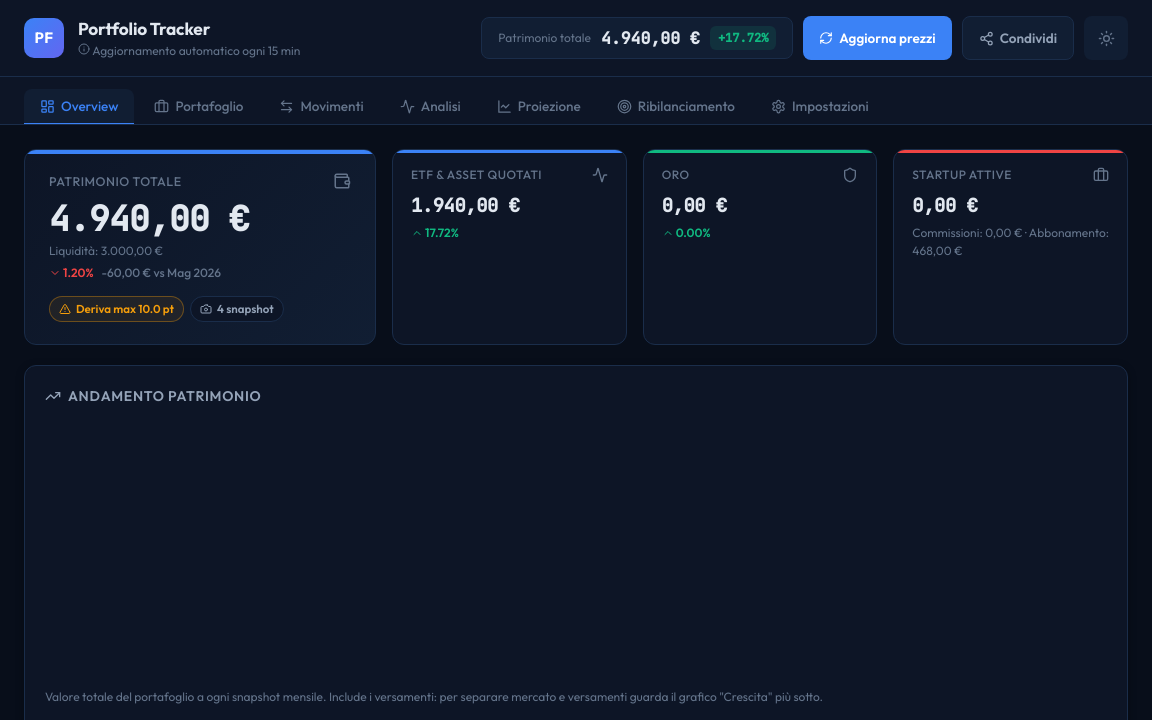
Test case: la concentrazione nomina la posizione che pesa di più
The image size is (1152, 720).
Step 1. Click the button "Analisi" → (430, 107), box [384,89,477,125]
(page scrolled)
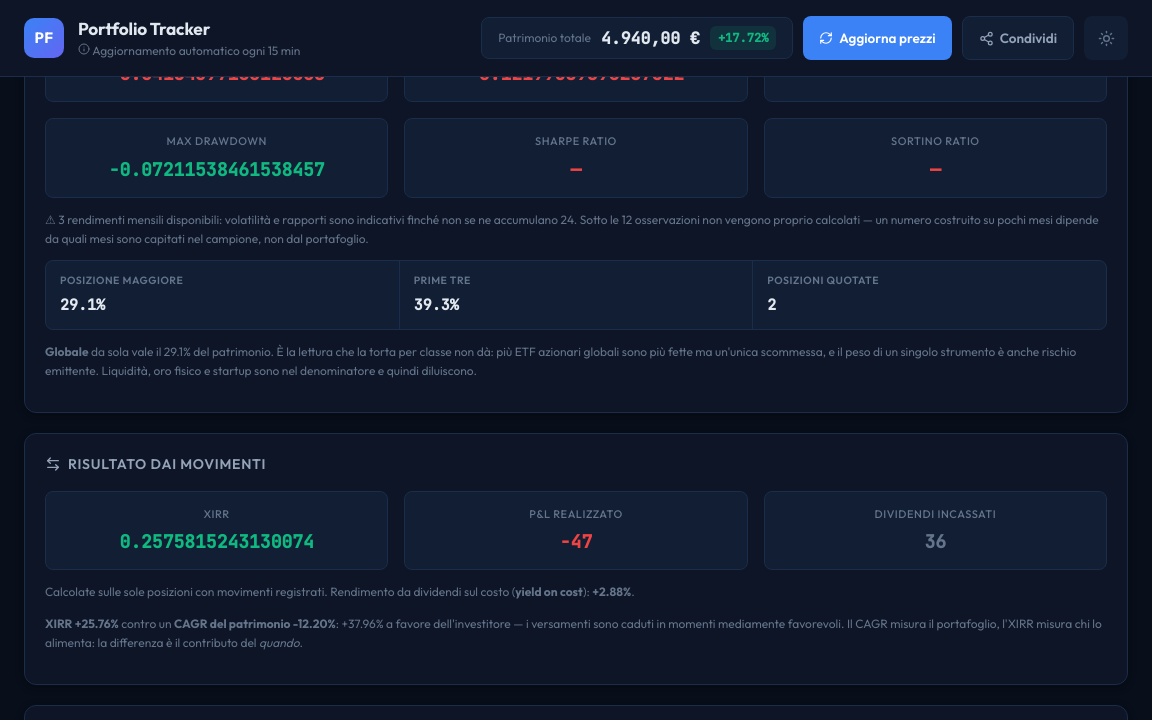
Check: the text "Posizione maggiore" is shown, box [60,273,183,287]
Check: the text "da sola vale il" shows "Globale", box [45,344,88,359]
